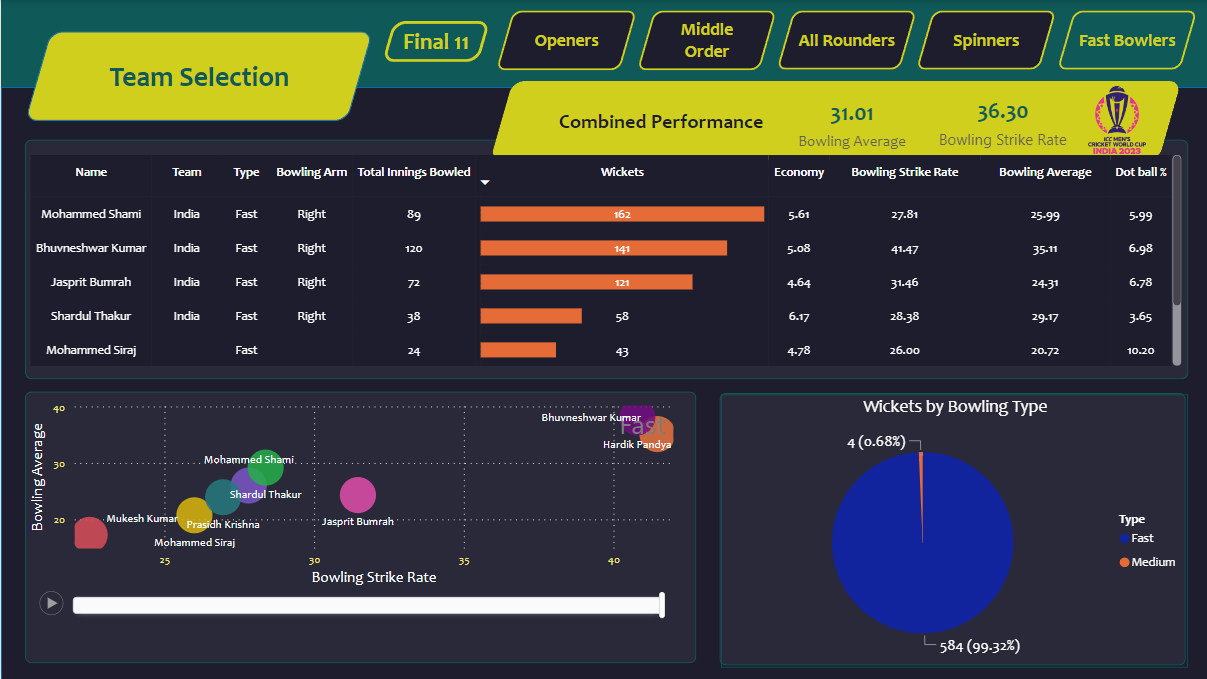

The page's visual inventory and layout, read from the dashboard file:
{"tool":"powerbi","page":{"name":"Fast Bowlers","canvas":[1280,720],"ordinal":4},"visuals":[{"type":"shape","box":[0,91.9,1280.6,627.9],"z":0},{"type":"shape","box":[0,91.4,1280,628.6],"z":1000},{"type":"scatterChart","fields":{"X":["Key_Measures.Bowling Strike Rate"],"Y":["Key_Measures.Bowling Average"],"Category":["india_bowl.Name","dim_player_bowler.bowlingStyle"],"Play":["india_bowl.Type"]},"box":[24.7,416.8,699.2,289.3],"z":2000},{"type":"shape","box":[25,147.5,1232.5,253.8],"z":3000},{"type":"shape","box":[518.6,85.7,732.9,84.3],"z":4000},{"type":"shape","box":[551.4,111.4,295.7,35.7],"z":5000},{"type":"actionButton","box":[523.7,11,149.4,63.1],"z":6000},{"type":"actionButton","box":[673.2,11,148.1,63.1],"z":7000},{"type":"actionButton","box":[821.4,11.4,148.6,62.9],"z":8000},{"type":"actionButton","box":[970,11.4,148.6,62.9],"z":9000},{"type":"actionButton","box":[1118.6,11.4,148.6,62.9],"z":10000},{"type":"shape","box":[24.7,415.4,711.6,287.9],"z":11000},{"type":"shape","box":[761.4,415.7,494.3,288.6],"z":12000},{"type":"pieChart","title":"Wickets by Bowling Type","fields":{"Y":["Key_Measures.Wickets"],"Category":["india_bowl.Type"]},"box":[762.3,418.2,494.9,289.3],"z":13000},{"type":"tableEx","fields":{"Values":["india_bowl.Name","dim_player_bowler.team","india_bowl.Type","dim_player_bowler.Bowling Arm","Key_Measures.Total Innings Bowled","Key_Measures.Wickets","Key_Measures.Economy","Key_Measures.Bowling Strike Rate","Key_Measures.Bowling Average","Key_Measures.Dot ball %"]},"box":[25,158.8,1230,233.8],"z":14000},{"type":"image","box":[1140.9,85.6,82,82],"z":15000},{"type":"shape","box":[24.7,32.9,368.8,94.6],"z":16000},{"type":"card","fields":{"Values":["Key_Measures.Bowling Strike Rate"]},"box":[982.3,89,158.3,76.3],"z":17000},{"type":"card","fields":{"Values":["Key_Measures.Bowling Average"]},"box":[832.5,93.8,137.5,70],"z":18000},{"type":"shape","box":[404,21.7,114.6,43.4],"z":19000}]}

Visuals, with their boxes in screenshot pixels (x1, y1, x2, y2), scaled from the page's 1280x720 canvas onto the 1207x679 screenshot:
shape: <box>0,87,1206,678</box>
shape: <box>0,86,1206,678</box>
scatterChart - Key_Measures.Bowling Strike Rate x Key_Measures.Bowling Average: <box>23,393,683,666</box>
shape: <box>24,139,1186,378</box>
shape: <box>489,81,1180,160</box>
shape: <box>520,105,799,139</box>
actionButton: <box>494,10,635,70</box>
actionButton: <box>635,10,774,70</box>
actionButton: <box>775,11,915,70</box>
actionButton: <box>915,11,1055,70</box>
actionButton: <box>1055,11,1195,70</box>
shape: <box>23,392,694,663</box>
shape: <box>718,392,1184,664</box>
"Wickets by Bowling Type" pieChart: <box>719,394,1186,667</box>
tableEx - india_bowl.Name x dim_player_bowler.team: <box>24,150,1183,370</box>
image: <box>1076,81,1153,158</box>
shape: <box>23,31,371,120</box>
card - Key_Measures.Bowling Strike Rate: <box>926,84,1076,156</box>
card - Key_Measures.Bowling Average: <box>785,88,915,154</box>
shape: <box>381,20,489,61</box>
